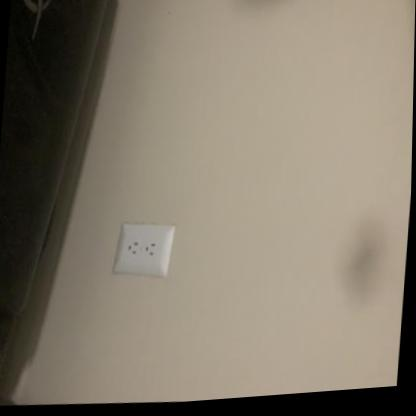OUTLET: (112, 217, 175, 281)
